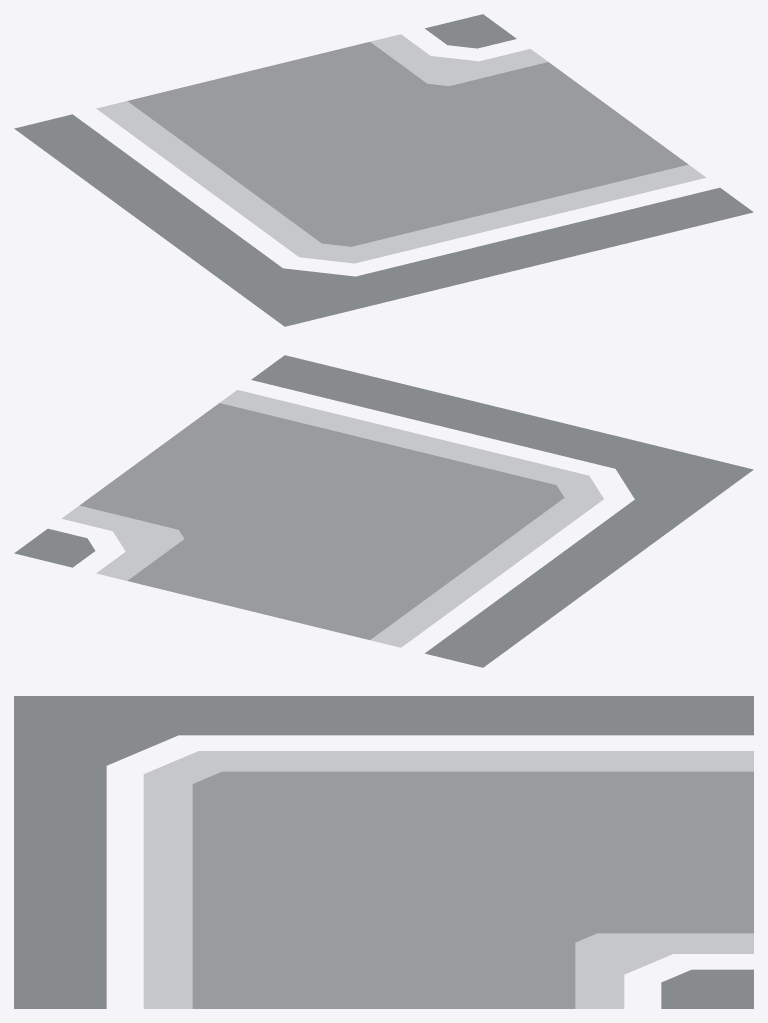
Rendered from Ceiling_type_A_004.glb.
3 renders of one model, top to bottom at view 1: azimuth 30°, elevation 25°; view 2: azimuth 150°, elevation 25°; view 3: azimuth 270°, elevation 25°, orthographic. The views are drawn at different scales.
Visible parts, largest first — view 1: Ceiling_type_A_004; view 2: Ceiling_type_A_004; view 3: Ceiling_type_A_004.
Boxes of the visible parts, box(x1,y1,x2,y2) form: Ceiling_type_A_004: box(14, 14, 753, 326); Ceiling_type_A_004: box(14, 355, 753, 667); Ceiling_type_A_004: box(14, 696, 753, 1008).
Bounding box in the file's own units: 4 × 0.0455 × 4.
2 materials, 2 textured.
